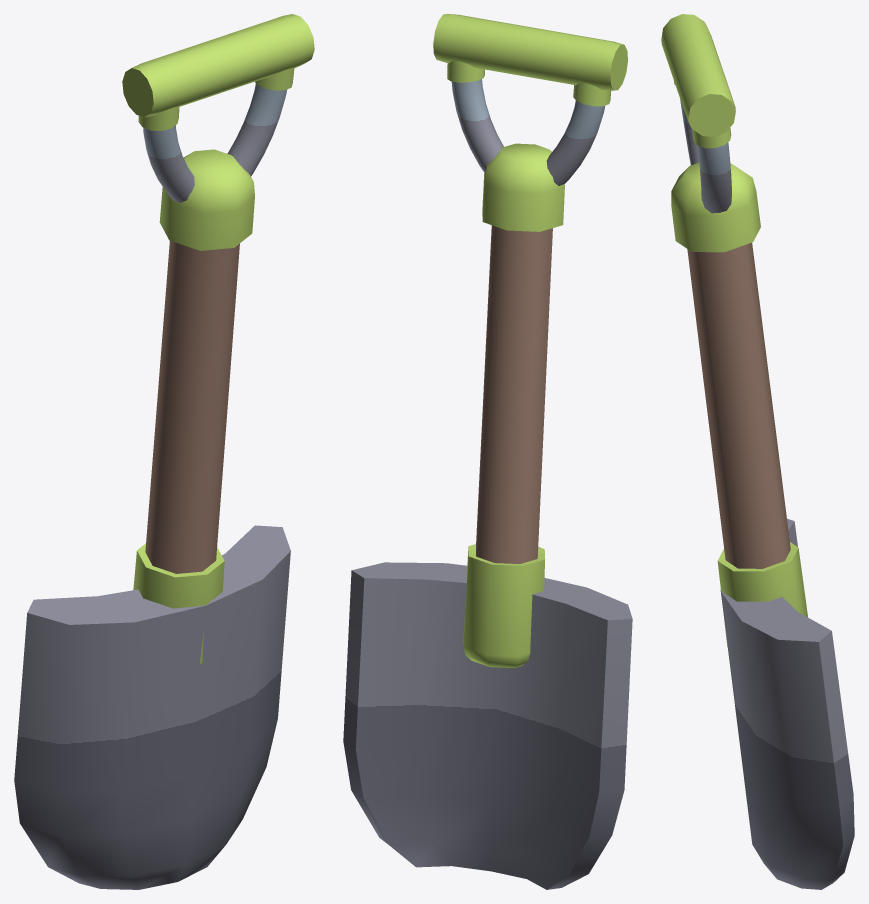
The model's file is pala.fbx.
The picture shows the model from 3 angles, left to right: view 1: azimuth 30°, elevation 25°; view 2: azimuth 150°, elevation 25°; view 3: azimuth 270°, elevation 25°; orthographic projection. The views are drawn at different scales.
Visible parts, largest first — view 1: pala; view 2: pala; view 3: pala.
Part boxes in pixels (x1=…): pala: x1=14, y1=14, x2=314, y2=889; pala: x1=343, y1=14, x2=632, y2=889; pala: x1=661, y1=14, x2=854, y2=889.
Size of the model in its own units: 65.8 by 194 by 41.77.
